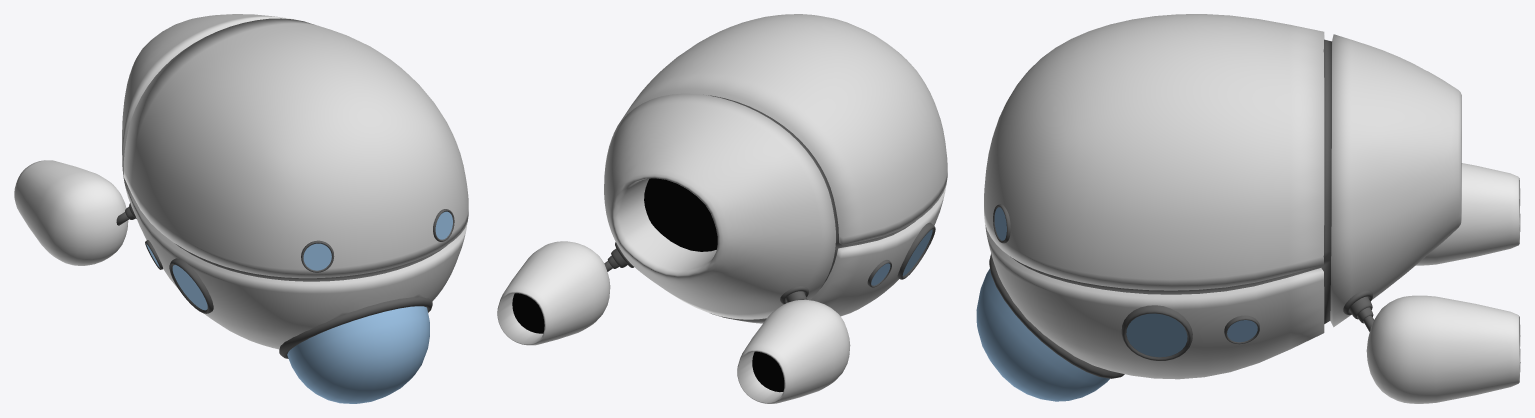
The picture shows the model from 3 angles, left to right: view 1: azimuth 30°, elevation 25°; view 2: azimuth 150°, elevation 25°; view 3: azimuth 270°, elevation 25°; orthographic projection. The views are drawn at different scales.
Parts seen in each view (by area): view 1: Spaceship; view 2: Spaceship; view 3: Spaceship.
Boxes of the visible parts, x1,y1,x2,y2 form: Spaceship: (14,14,468,403); Spaceship: (497,14,947,403); Spaceship: (976,14,1520,403).
Bounding box in the file's own units: 198 × 182 × 249.
